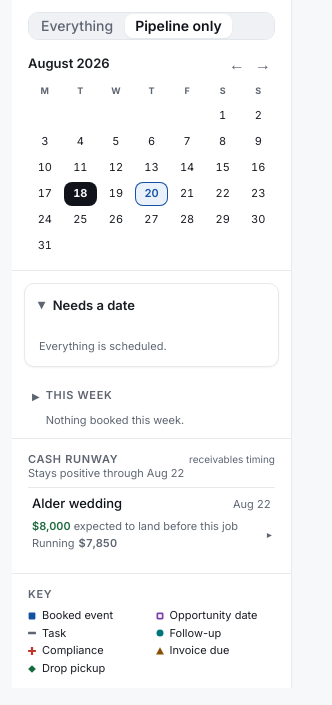
Scenario: CalendarLeftRail › lets the mini-month page months without leaving the day
The width and height of the screenshot is (332, 705).
Expected: the text "August 2026" is shown, [28, 54, 110, 74]
Click the button named "next month". click: {"x": 263, "y": 64}
box: [251, 52, 275, 76]
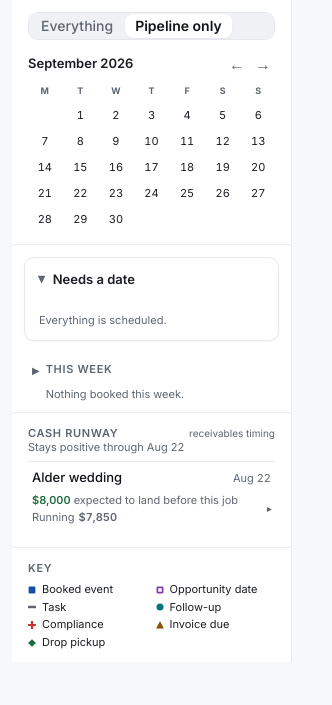
Expected: the text "September 2026" is shown, [28, 54, 133, 74]
